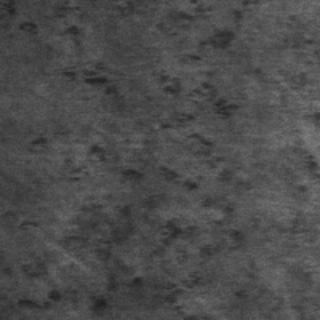rolled pit: (8, 127, 220, 317), (50, 48, 242, 168)
